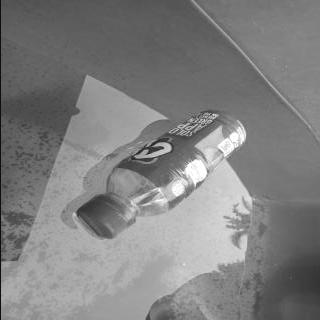bottle: (74, 108, 248, 239)
